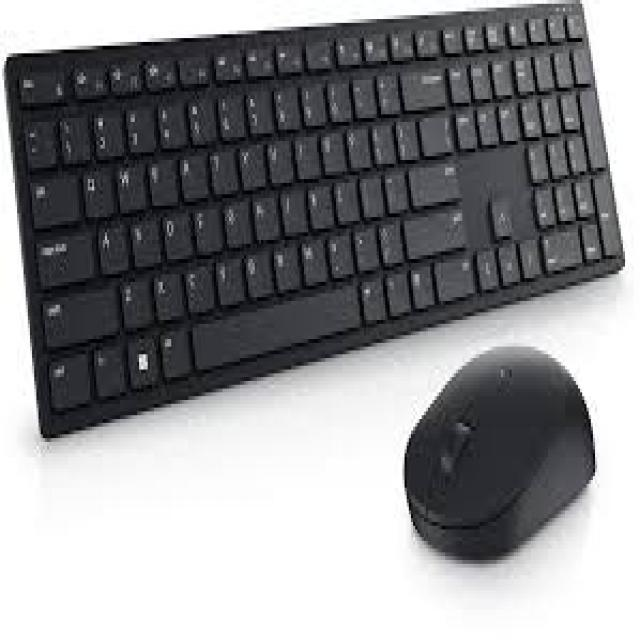others: (2, 4, 627, 560)
